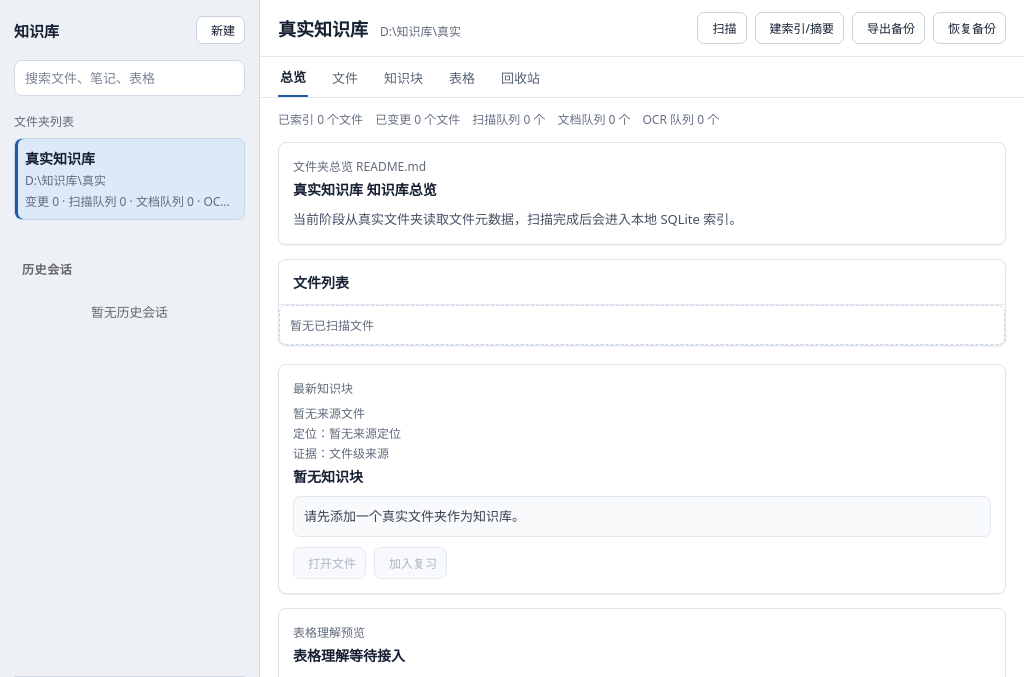
App › preflights and confirms restoring a local backup from the folder toolbar
Expected: the heading "真实知识库" is shown, [278, 15, 368, 41]
Click the button "恢复备份". click: (970, 28)
box: [933, 12, 1006, 44]
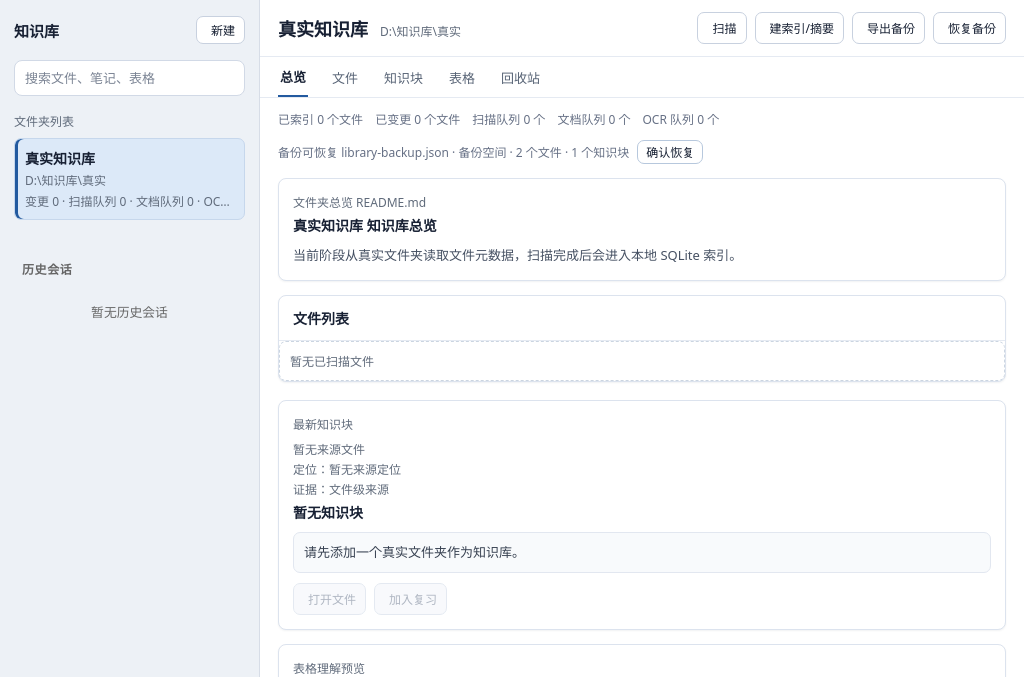
Now the text "备份可恢复 library-backup.json · 备份空间 · 2 个文件 · 1 个知识块 确认恢复" is shown, box [278, 140, 703, 164]
Click the button "确认恢复". click: (670, 152)
box: [637, 140, 703, 164]
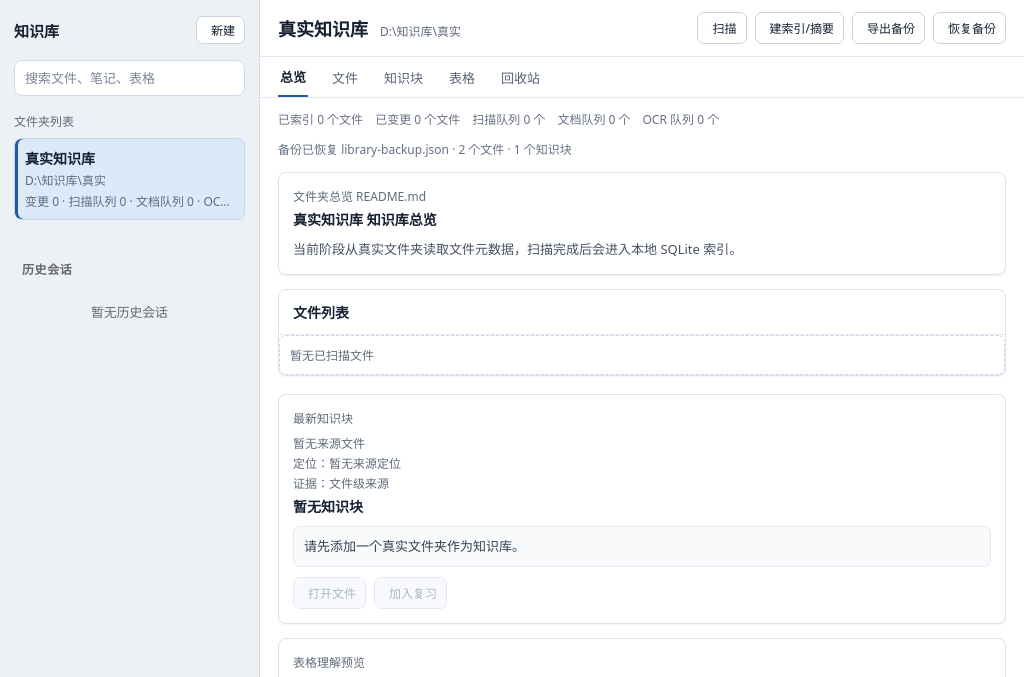
Now the text "备份已恢复 library-backup.json · 2 个文件 · 1 个知识块" is shown, box [278, 140, 572, 158]
